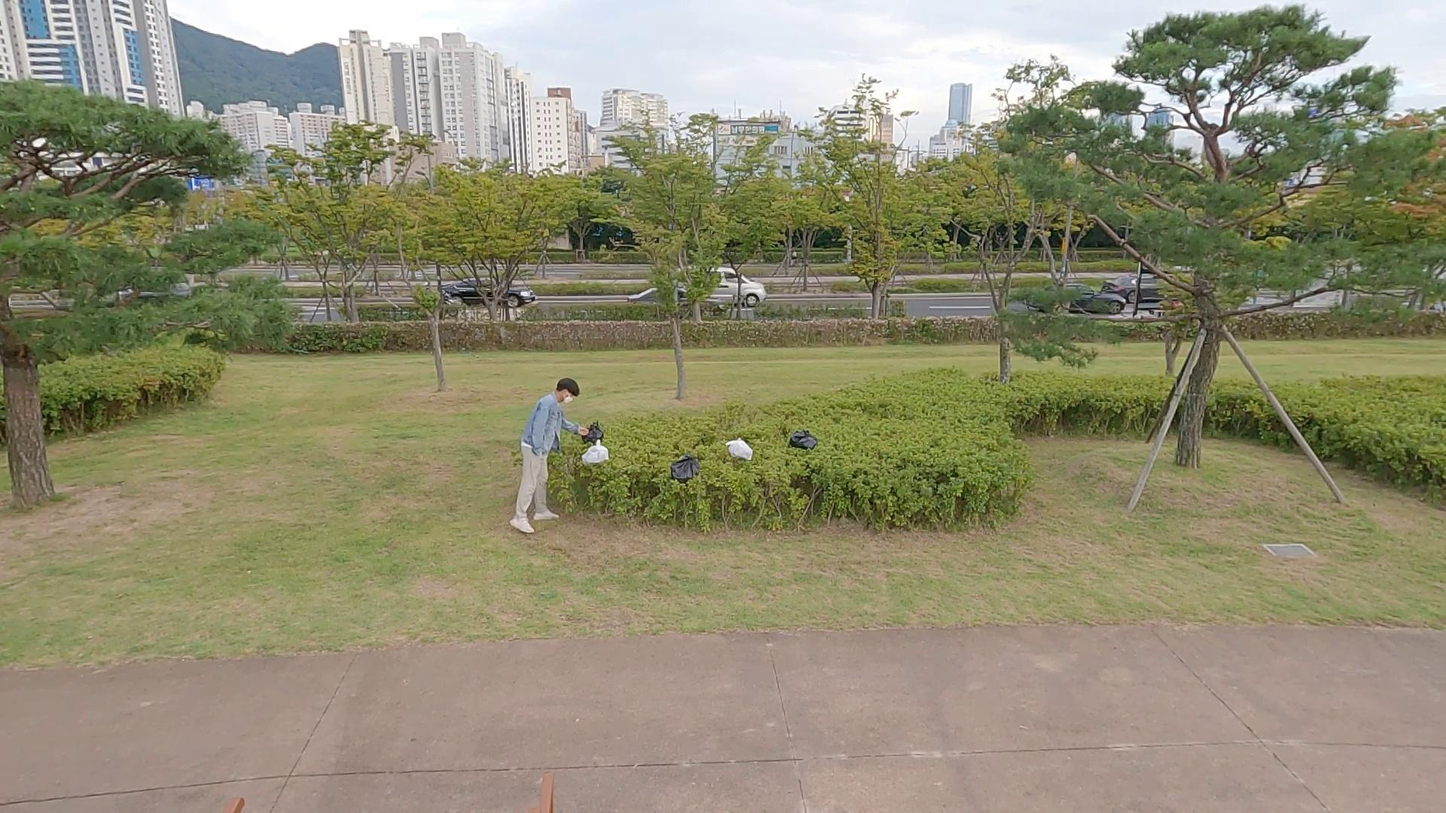person: (510, 372, 585, 536)
trash: (668, 450, 698, 484), (724, 433, 756, 462), (581, 439, 614, 466), (788, 426, 818, 454), (579, 418, 606, 442)
